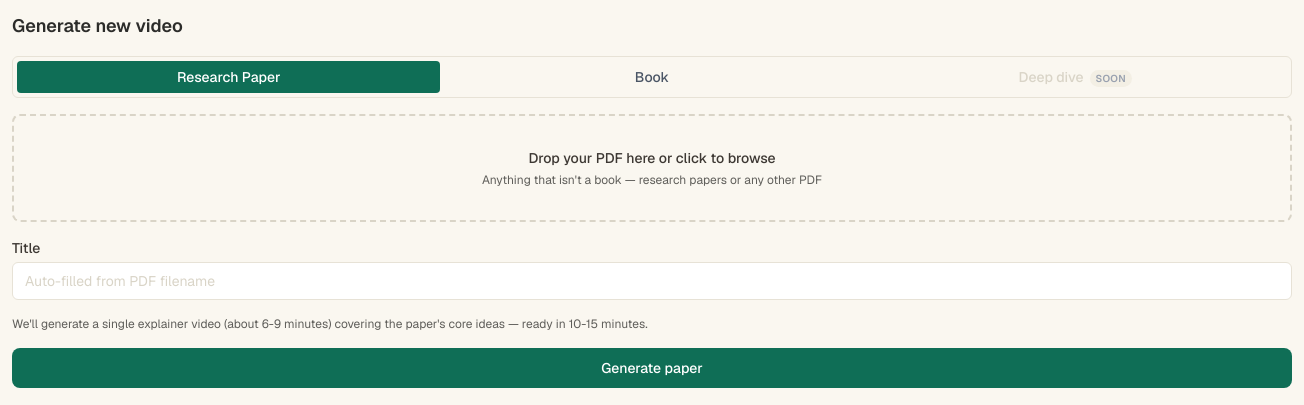
it: GenerateForm › switches to Book mode and updates copy and submit label
Click the button "Book" at (652, 77), box [440,61,864,93]
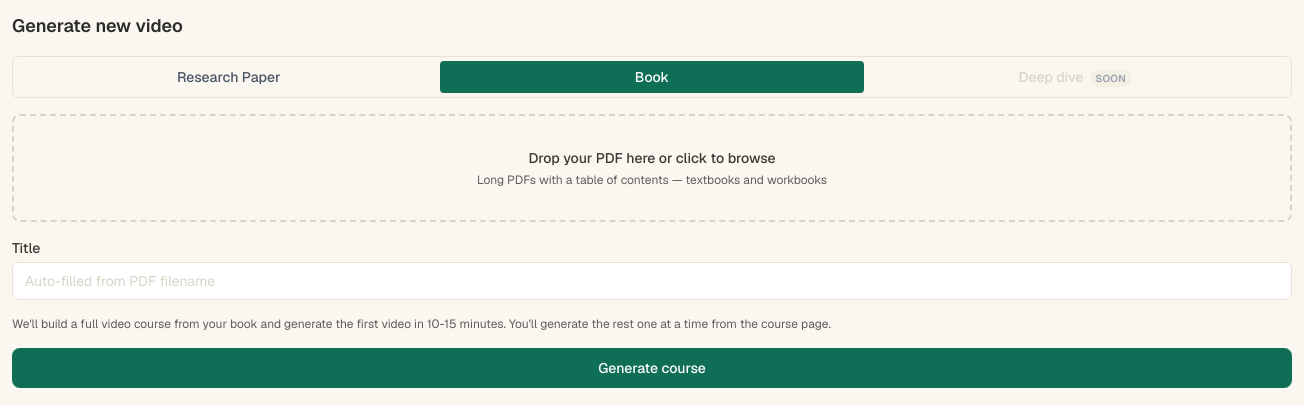
Check: the button "Generate course" is shown, box [12,348,1292,388]
Check: the text "Long PDFs with a table of contents — textbooks and workbooks" is shown, box [477,172,827,188]
Check: the text "one at a time from the course page" is shown, box [12,316,831,332]
